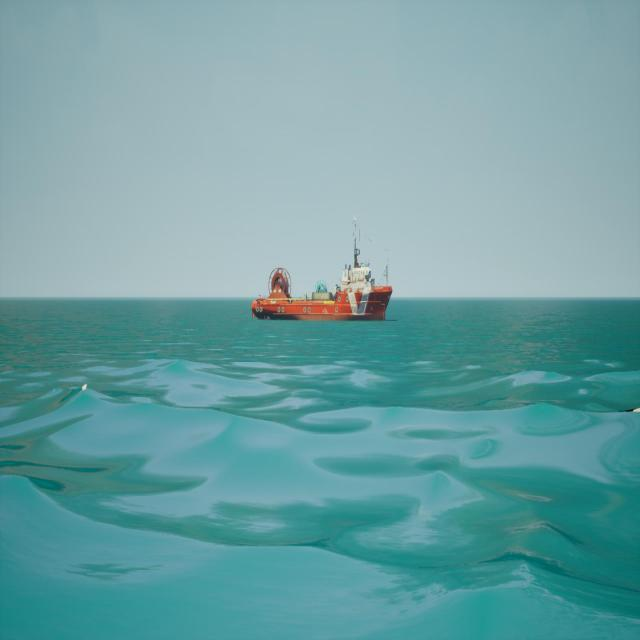tug boat: (253, 216, 396, 324)
